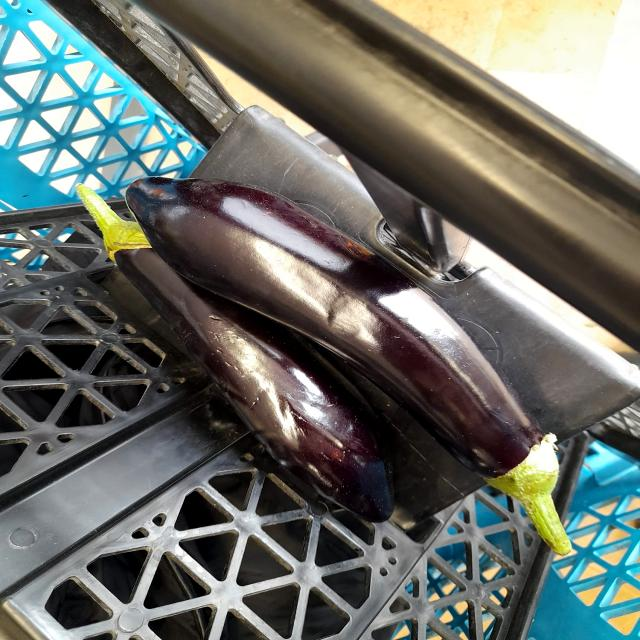eggplant: (122, 160, 576, 559), (76, 175, 398, 528)
